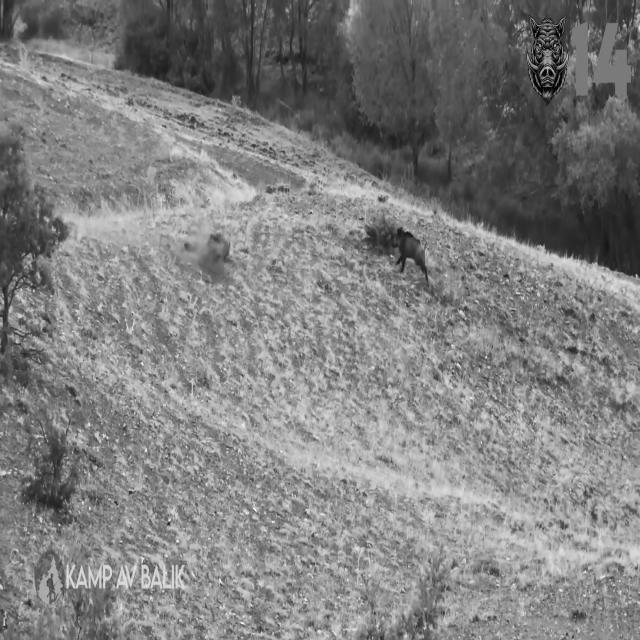boar: (527, 15, 569, 103), (175, 227, 230, 277), (394, 227, 428, 286)
